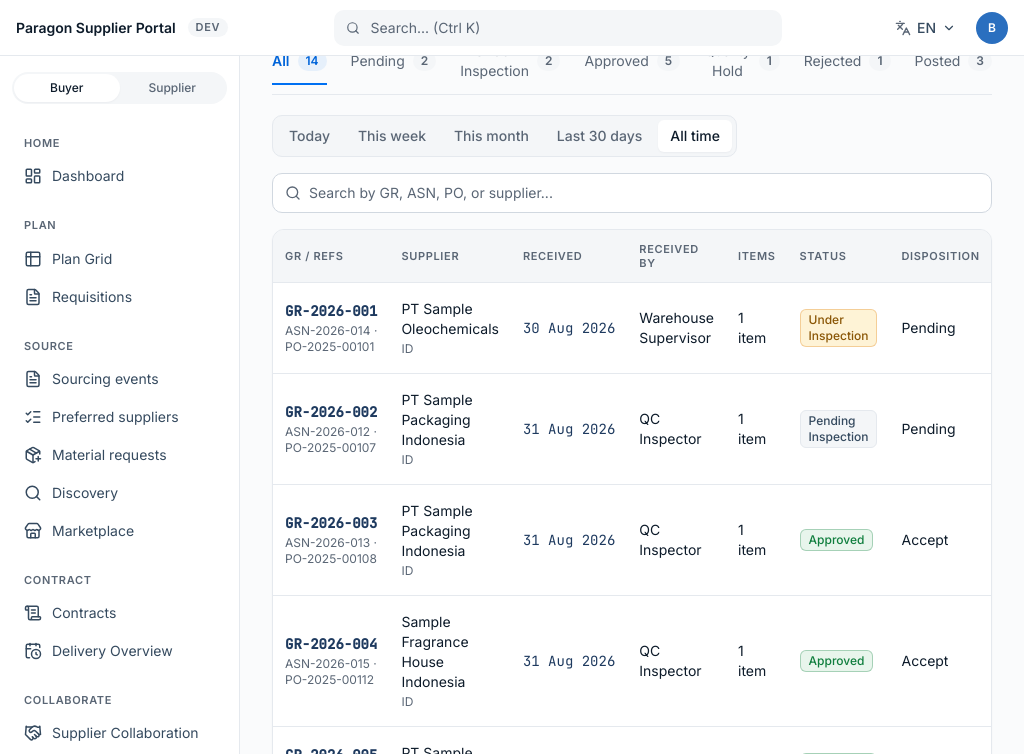
Test: §75 · BuyerGoodsReceipt — the ROW-LEVEL verbs the entry guard did not cover › WITHHELD: a finance seat reads the owner where Start inspection was
(page scrolled)
Click the text "GR-2026-002" at x=331, y=412, box [285, 402, 377, 422]
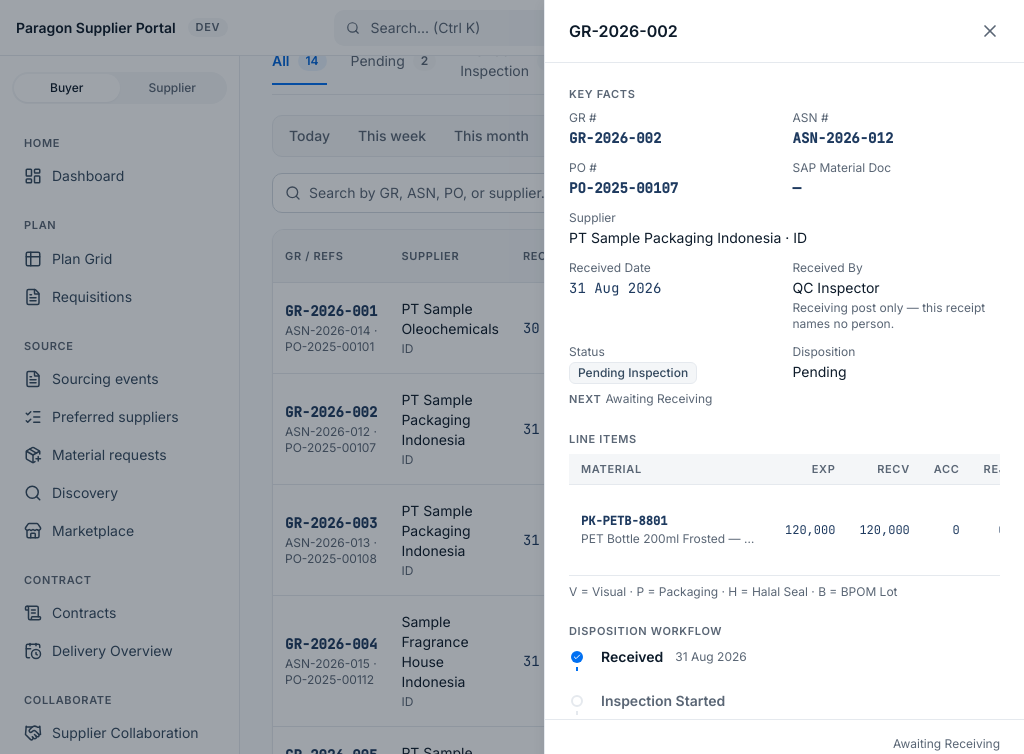
Expected: the text with test id "handoff-gr-start" reads "Awaiting Receiving", [893, 736, 1000, 751]
